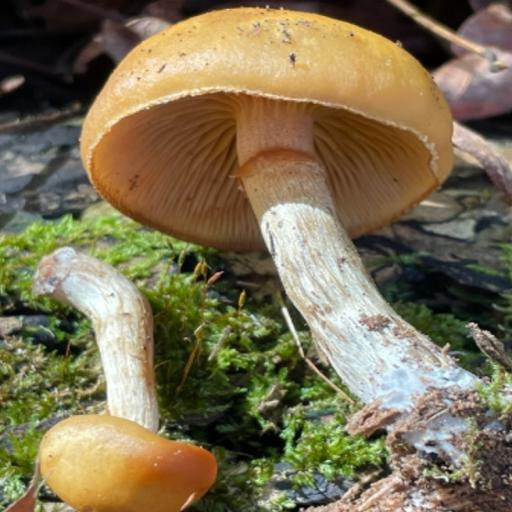mushroom: (89, 5, 458, 292), (29, 385, 229, 512)
